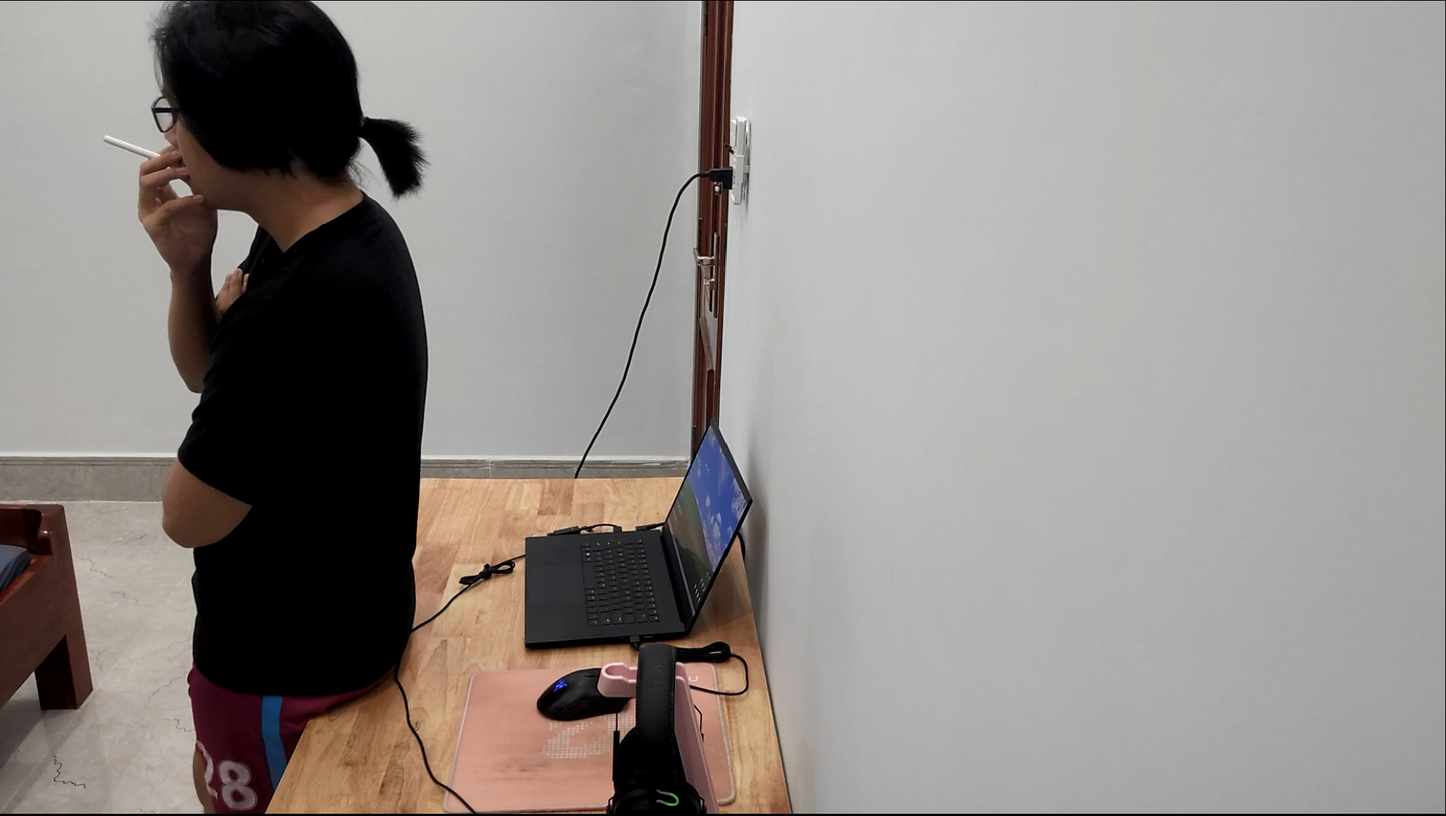cigarette: (103, 127, 174, 175)
person: (72, 0, 450, 727)
